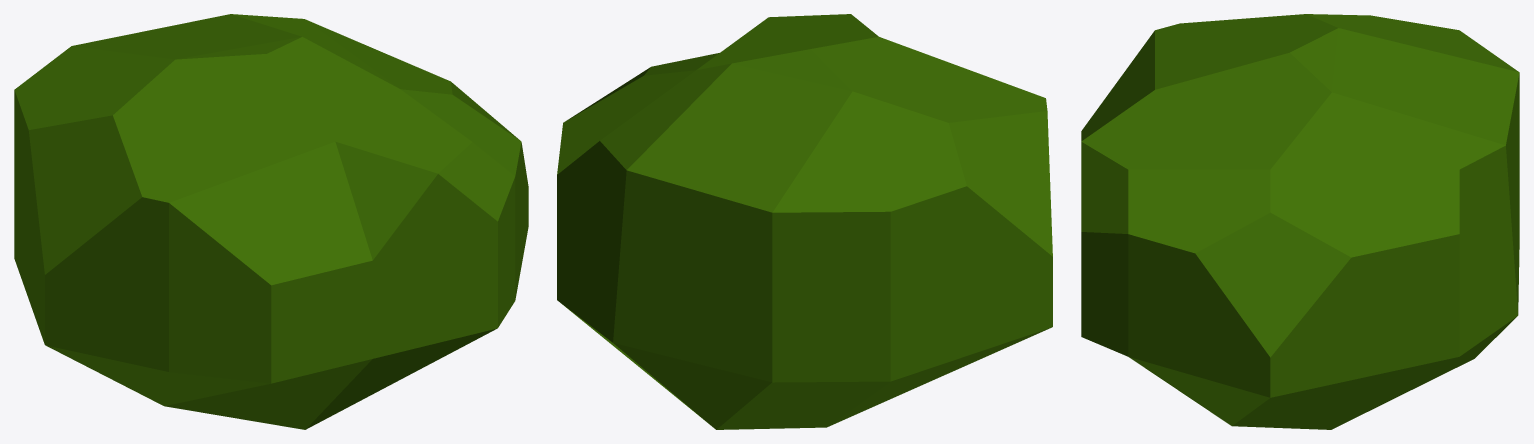
The model's file is rock2.fbx.
The picture shows the model from 3 angles, left to right: view 1: azimuth 30°, elevation 25°; view 2: azimuth 150°, elevation 25°; view 3: azimuth 270°, elevation 25°; orthographic projection.
Visible parts, largest first — view 1: rock2; view 2: rock2; view 3: rock2.
Boxes of the visible parts, left/top/right/bottom form: rock2: left=14, top=14, right=528, bottom=429; rock2: left=557, top=14, right=1052, bottom=429; rock2: left=1081, top=14, right=1519, bottom=429.
Bounding box in the file's own units: 111 × 77.2 × 88.27.
